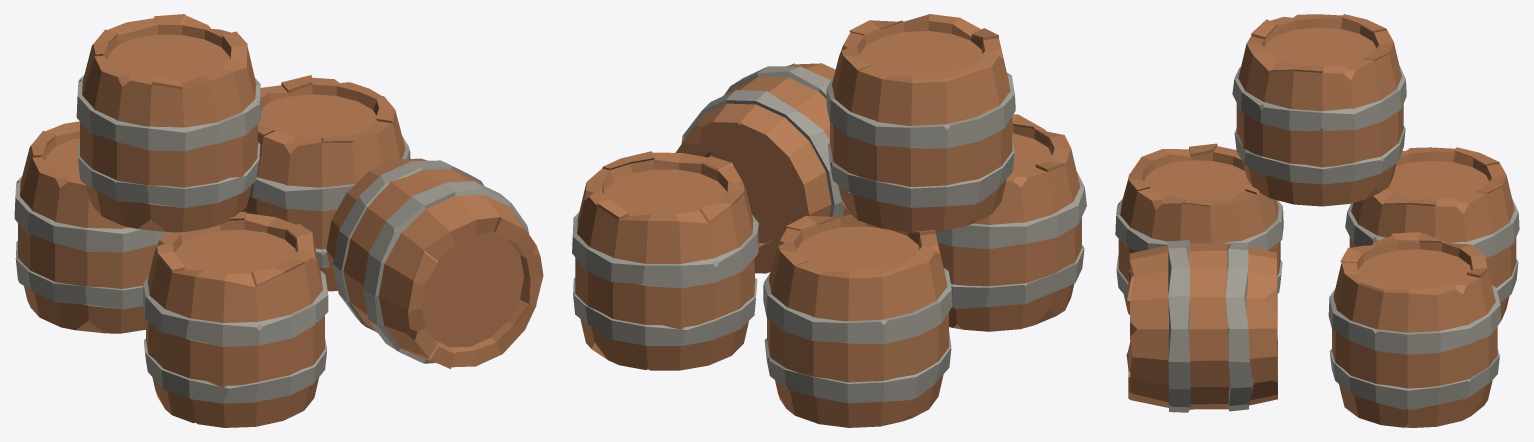
File: LowPolyBarrels.fbx
3 views of the same model, side by side, from view 1: azimuth 30°, elevation 25°; view 2: azimuth 150°, elevation 25°; view 3: azimuth 270°, elevation 25° (orthographic). The views are drawn at different scales.
Parts seen in each view (by area): view 1: Barrel5, Barrel1, Barrel2, Barrel3, Barrel4; view 2: Barrel4, Barrel5, Barrel3, Barrel2, Barrel1; view 3: Barrel5, Barrel4, Barrel1, Barrel2, Barrel3.
Part boxes in pixels (x1=…): Barrel5: x1=76, y1=14, x2=261, y2=232; Barrel1: x1=326, y1=158, x2=543, y2=368; Barrel2: x1=142, y1=211, x2=328, y2=427; Barrel3: x1=14, y1=121, x2=167, y2=333; Barrel4: x1=242, y1=75, x2=410, y2=291; Barrel4: x1=572, y1=151, x2=758, y2=370; Barrel5: x1=826, y1=14, x2=1015, y2=232; Barrel3: x1=763, y1=214, x2=952, y2=427; Barrel2: x1=935, y1=114, x2=1086, y2=331; Barrel1: x1=675, y1=63, x2=850, y2=273; Barrel5: x1=1232, y1=14, x2=1406, y2=206; Barrel4: x1=1328, y1=232, x2=1500, y2=427; Barrel1: x1=1126, y1=240, x2=1277, y2=412; Barrel2: x1=1115, y1=143, x2=1283, y2=314; Barrel3: x1=1345, y1=147, x2=1519, y2=320.
Bounding box in the file's own units: 174 × 138 × 184.
